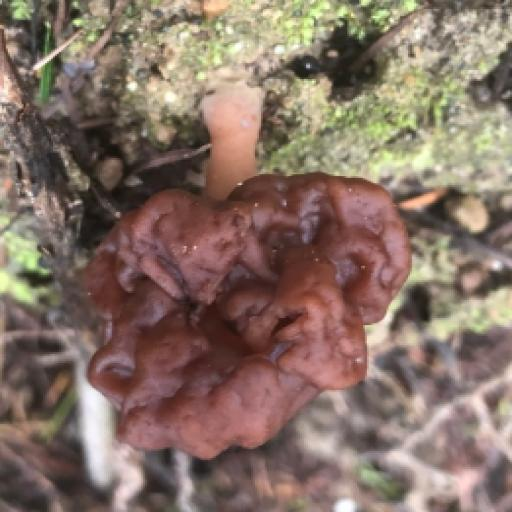mushroom: (65, 157, 435, 474)
